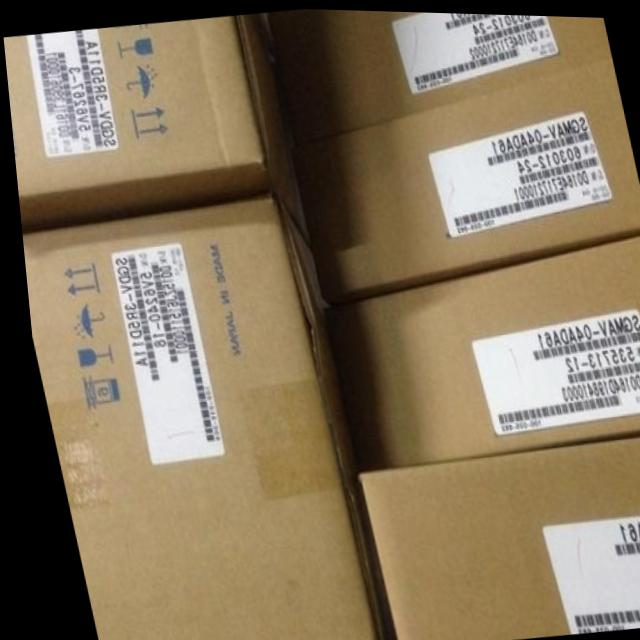box: (17, 190, 383, 640), (285, 53, 640, 299), (314, 230, 640, 469), (3, 11, 304, 240), (348, 431, 640, 640), (265, 7, 611, 139)
